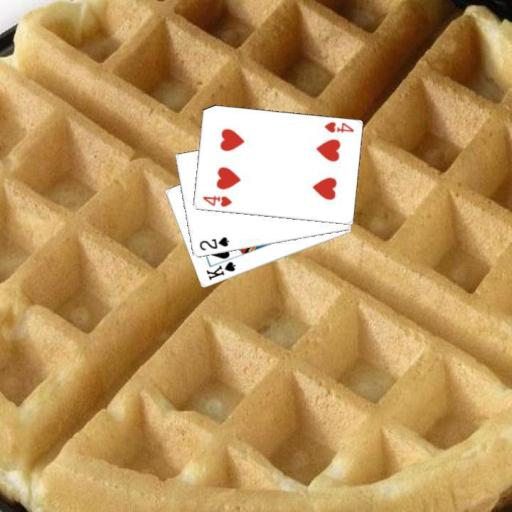2S: (197, 234, 231, 252)
4H: (321, 119, 355, 134), (200, 193, 233, 208)
KS: (203, 259, 237, 282)
